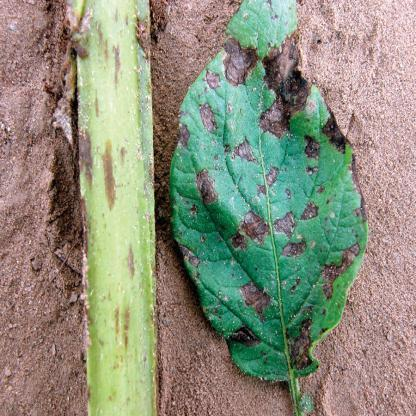Potato leaf late blight: (171, 1, 373, 391)
